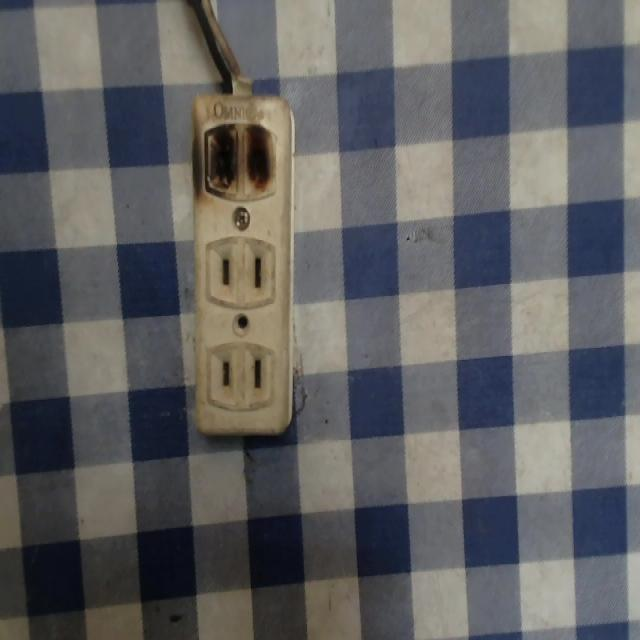-: (194, 114, 280, 202)
